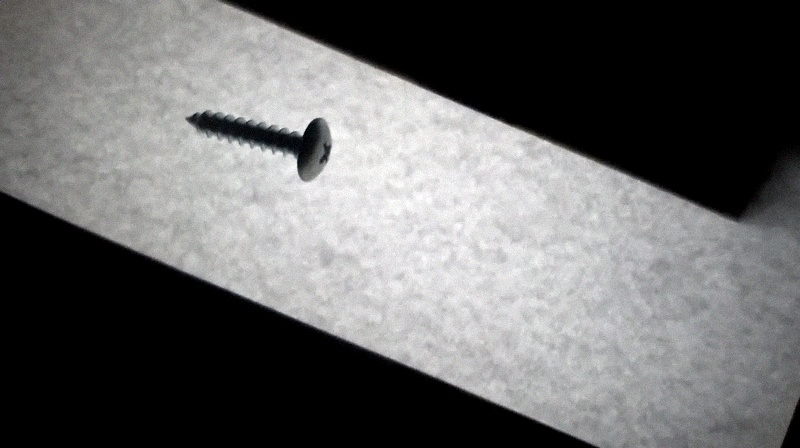S003: (181, 106, 336, 186)
